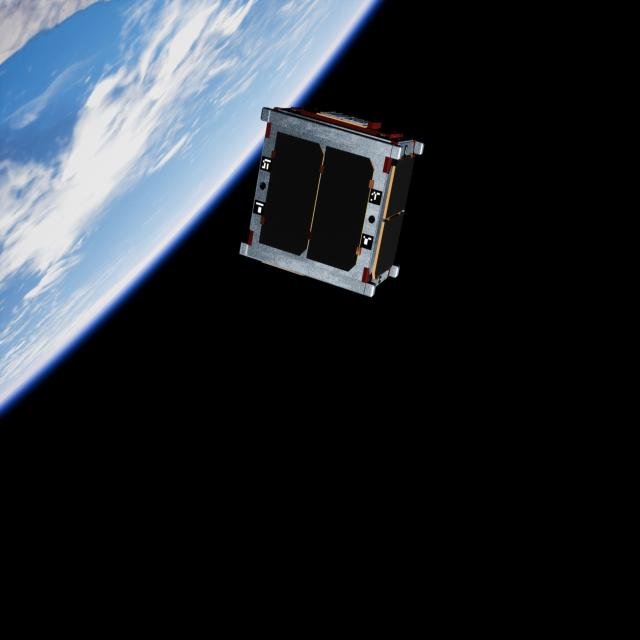satellite: (240, 100, 438, 297)
